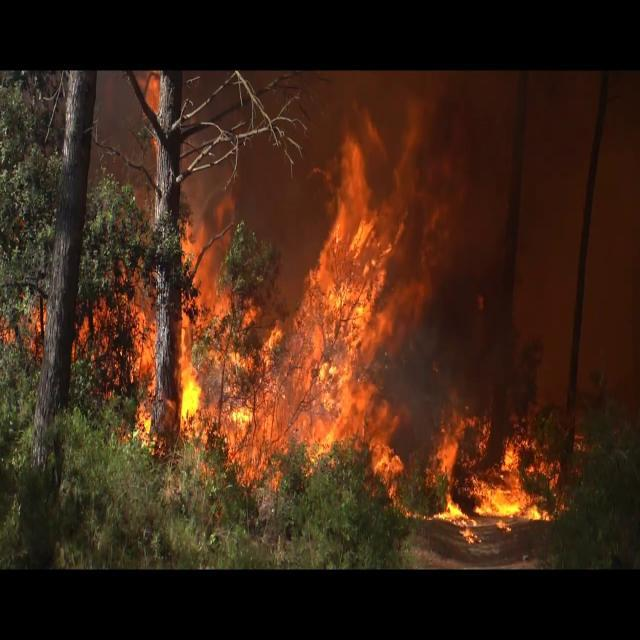Fire: (109, 140, 428, 487), (424, 408, 570, 540)
Smoke: (396, 72, 640, 402)
